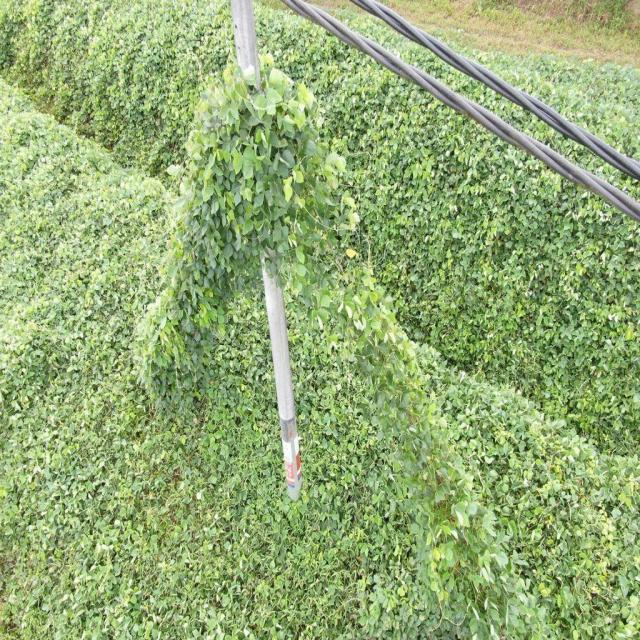critical vegetation: (290, 92, 520, 602), (130, 44, 280, 388)
